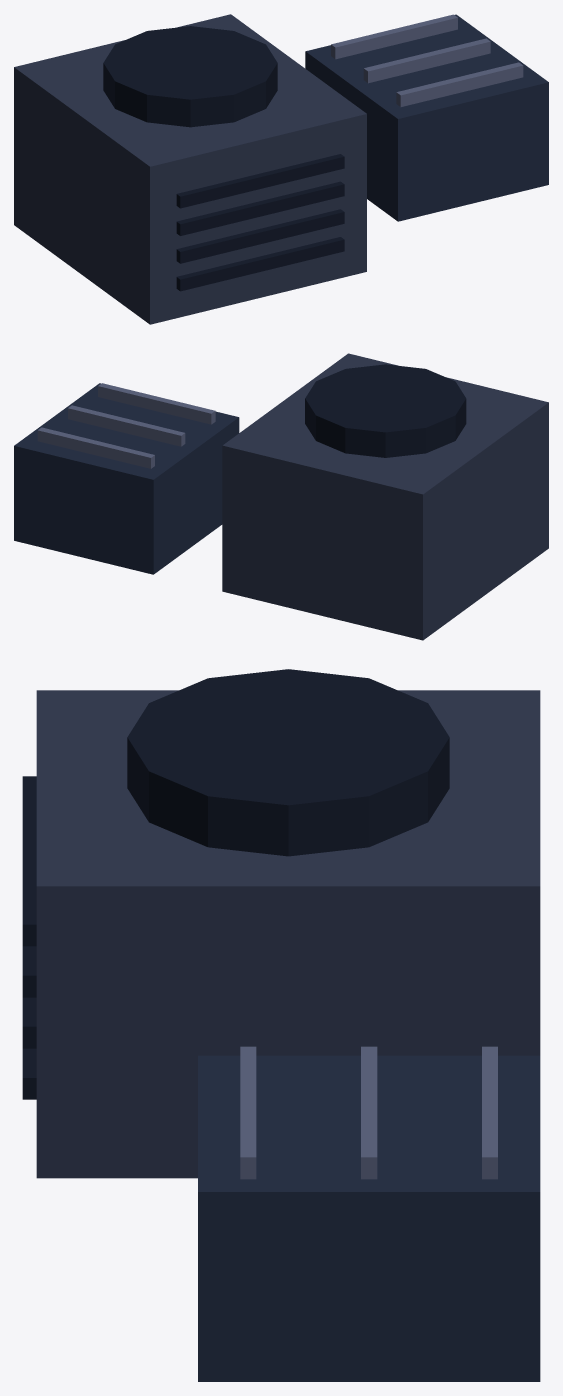
Rendered from Neon_RooftopEquipment_Standard.glb.
The picture shows the model from 3 angles, top to bottom: view 1: azimuth 30°, elevation 25°; view 2: azimuth 150°, elevation 25°; view 3: azimuth 270°, elevation 25°; orthographic projection. The views are drawn at different scales.
Visible parts, largest first — view 1: Neon_RooftopEquipment_Standard; view 2: Neon_RooftopEquipment_Standard; view 3: Neon_RooftopEquipment_Standard.
Part boxes in pixels (x1,y1,x2,y2): Neon_RooftopEquipment_Standard: (14, 14, 548, 324); Neon_RooftopEquipment_Standard: (14, 353, 548, 640); Neon_RooftopEquipment_Standard: (22, 669, 540, 1381).
Size of the model in its own units: 2.34 by 0.94 by 1.28.
